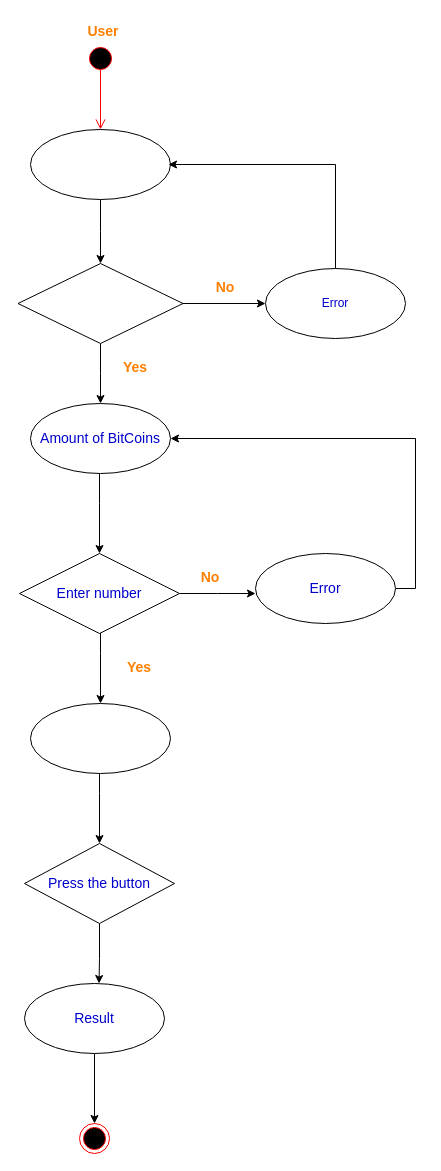
The diagram is 441 pixels wide and 1171 high, and some of its shapes have lost their labels. Here are the shapes that lost their labels. From the top down, the box of each, then its label:
(30, 128, 170, 200): Select currecy
(17, 262, 183, 344): Select EUR or USD
(30, 702, 170, 774): Get Rates
